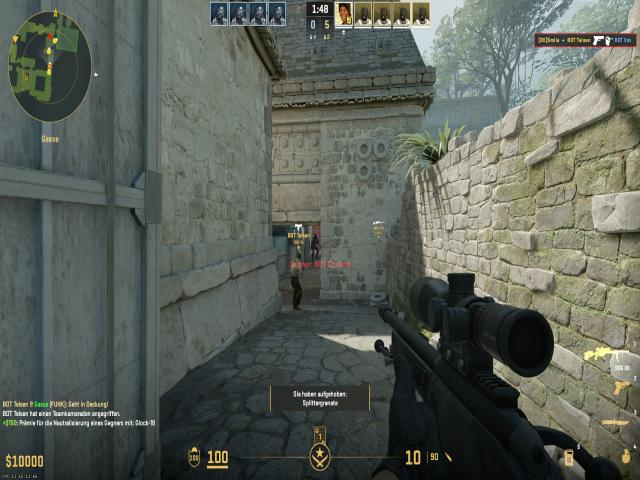CT: (309, 232, 320, 258)
CT-Head: (312, 233, 318, 240)
T: (287, 254, 306, 313)
T-Head: (294, 252, 302, 264)
